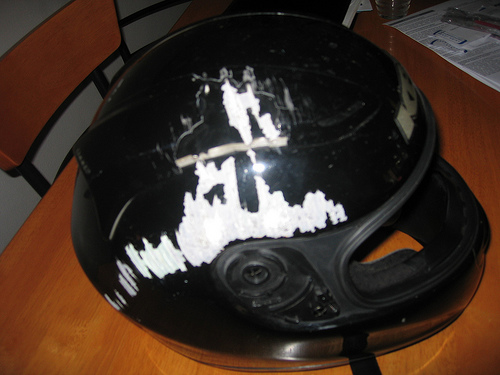helmet: (104, 53, 471, 336)
